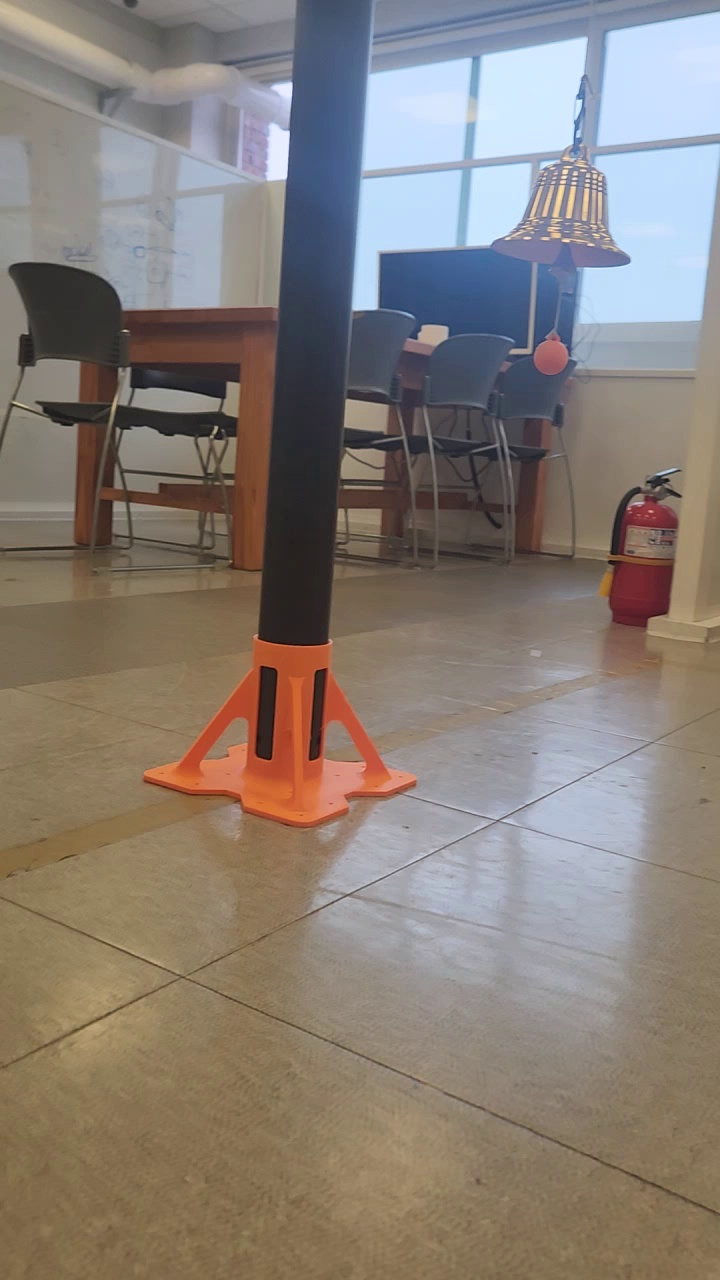bell: (488, 152, 636, 266)
pole: (256, 3, 371, 641)
